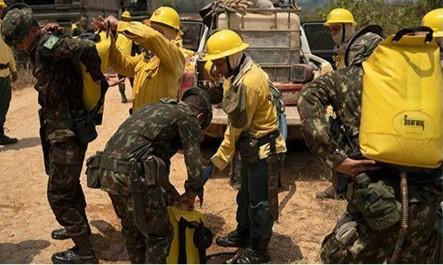victim: (4, 12, 106, 264), (199, 32, 280, 258), (106, 91, 211, 258)
